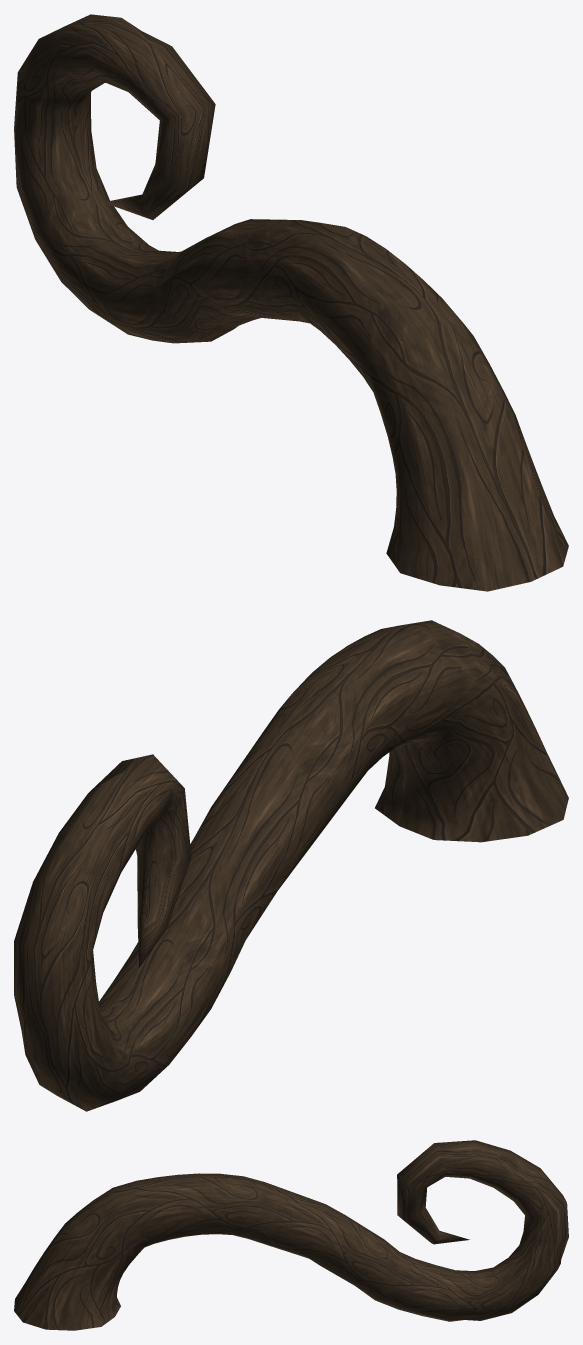
Rendered from rootGreen2.fbx.
3 views of the same model, one above another, from view 1: azimuth 30°, elevation 25°; view 2: azimuth 150°, elevation 25°; view 3: azimuth 270°, elevation 25° (orthographic). The views are drawn at different scales.
Parts seen in each view (by area): view 1: rootGreen2; view 2: rootGreen2; view 3: rootGreen2.
Boxes of the visible parts, left/top/right/bottom form: rootGreen2: left=14, top=14, right=568, bottom=591; rootGreen2: left=14, top=620, right=568, bottom=1111; rootGreen2: left=14, top=1140, right=568, bottom=1330.
Bounding box in the file's own units: 284 × 514 × 1476.
